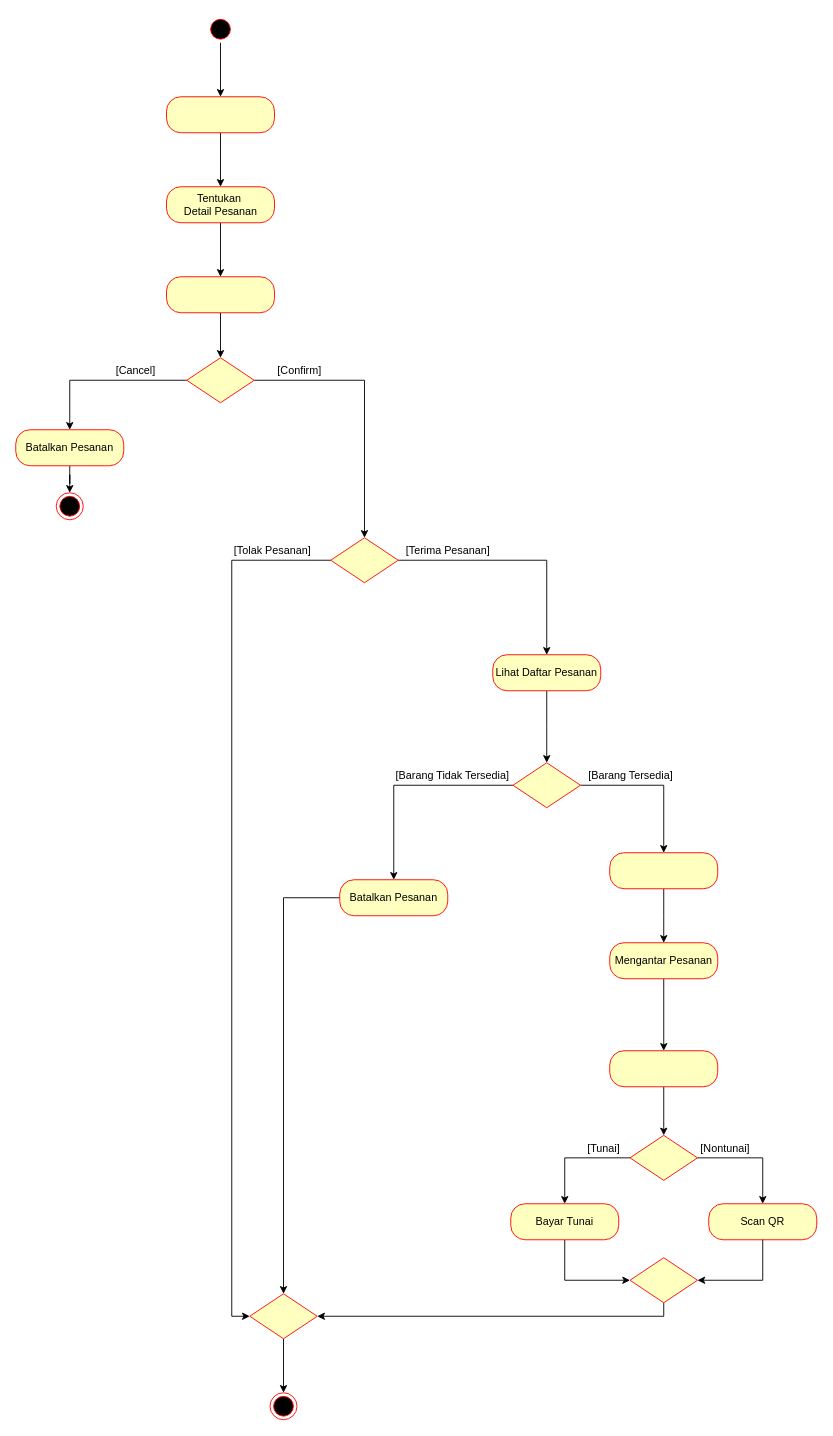
Some shapes in this 833 by 1436 pixel diagram are drawn without their labels. The centre of each missing label's shape, as x and y in pixels:
Bayar: (663,1068)
Buat Pesanan: (220,294)
Membeli barang: (663,870)
Order: (220,114)
